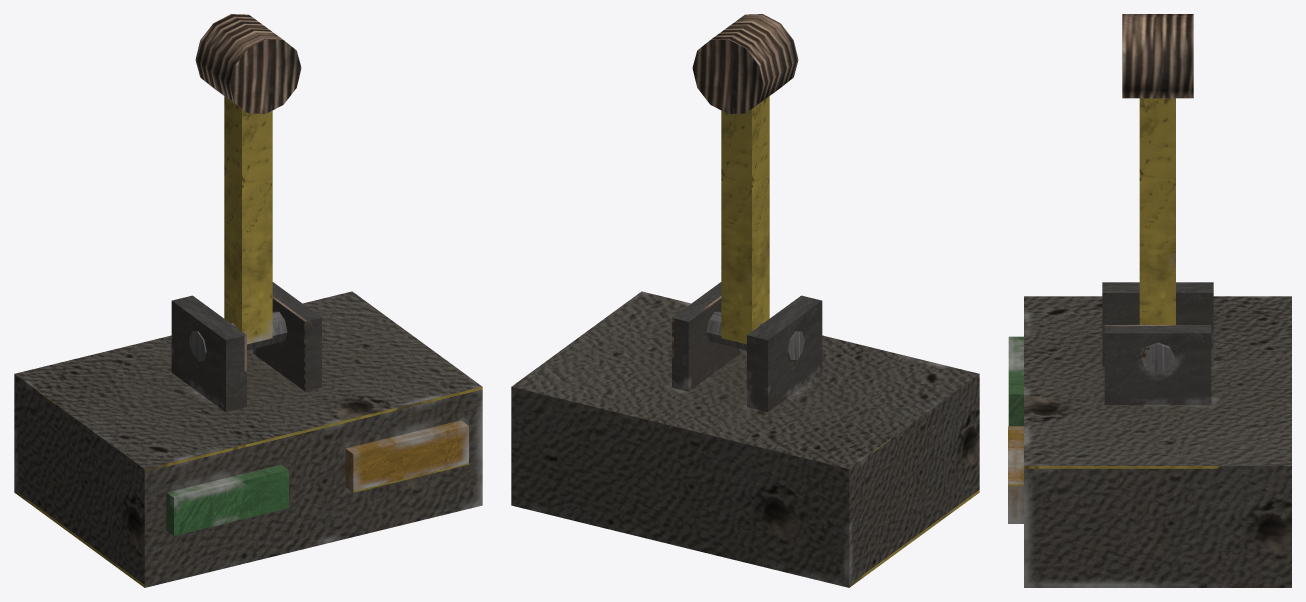
Rendered from feSignalLever_HD.fbx.
3 renders of one model, left to right at view 1: azimuth 30°, elevation 25°; view 2: azimuth 150°, elevation 25°; view 3: azimuth 270°, elevation 25°, orthographic. The views are drawn at different scales.
Visible parts, largest first — view 1: feSignalLever_Base, FeLever_Signal; view 2: feSignalLever_Base, FeLever_Signal; view 3: feSignalLever_Base, FeLever_Signal.
Boxes of the visible parts, x1=… form: feSignalLever_Base: x1=14, y1=282, x2=482, y2=587; FeLever_Signal: x1=195, y1=14, x2=301, y2=344; feSignalLever_Base: x1=511, y1=282, x2=979, y2=587; FeLever_Signal: x1=692, y1=14, x2=798, y2=344; feSignalLever_Base: x1=1008, y1=282, x2=1291, y2=587; FeLever_Signal: x1=1122, y1=14, x2=1193, y2=324.
Size of the model in its own units: 0.3012 by 0.4024 by 0.2131.
1 material, 1 textured.
